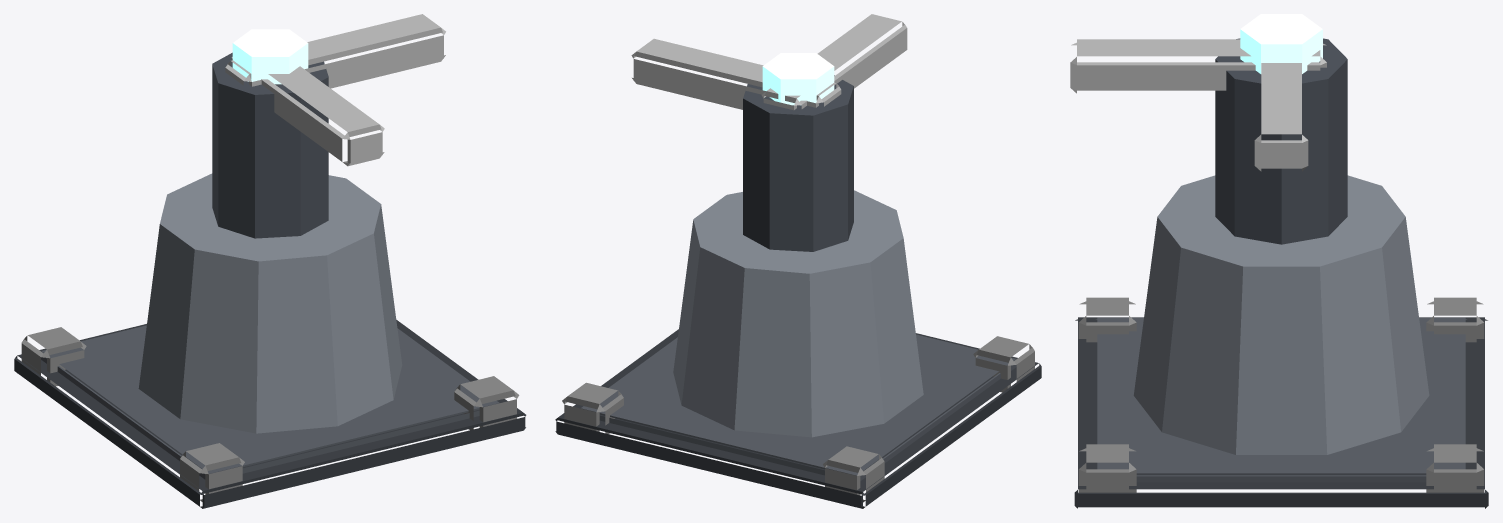
Rendered from mex.glb.
3 renders of one model, left to right at view 1: azimuth 30°, elevation 25°; view 2: azimuth 150°, elevation 25°; view 3: azimuth 270°, elevation 25°, orthographic. The views are drawn at different scales.
Parts seen in each view (by area): view 1: body, spinner; view 2: body, spinner; view 3: body, spinner.
Part boxes in pixels (x1,y1,x2,y2): body: (14, 52, 526, 508); spinner: (225, 14, 445, 166); body: (555, 75, 1041, 508); spinner: (631, 14, 907, 110); body: (1074, 38, 1488, 508); spinner: (1070, 14, 1326, 171).
Size of the model in its own units: 48.48 by 50.4 by 48.48.
